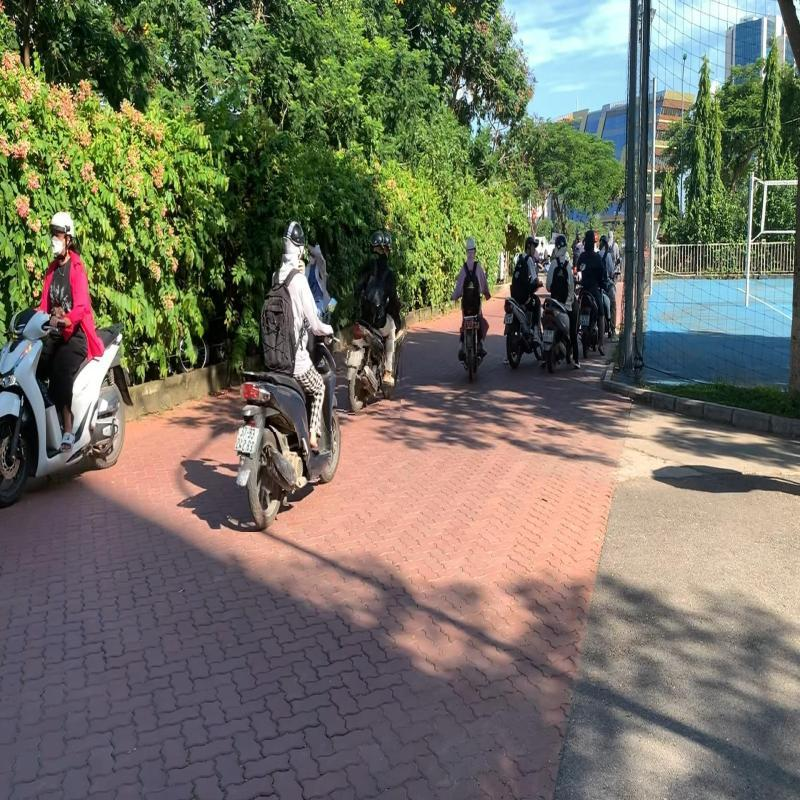helmet: (282, 220, 308, 254), (370, 230, 384, 254)
licenseplate: (234, 420, 260, 457), (347, 346, 364, 370)
motorcyclist: (226, 216, 348, 532), (340, 228, 412, 418)
